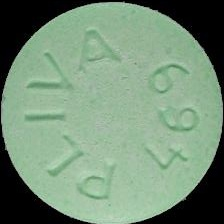69189-0470: (0, 0, 224, 224)
